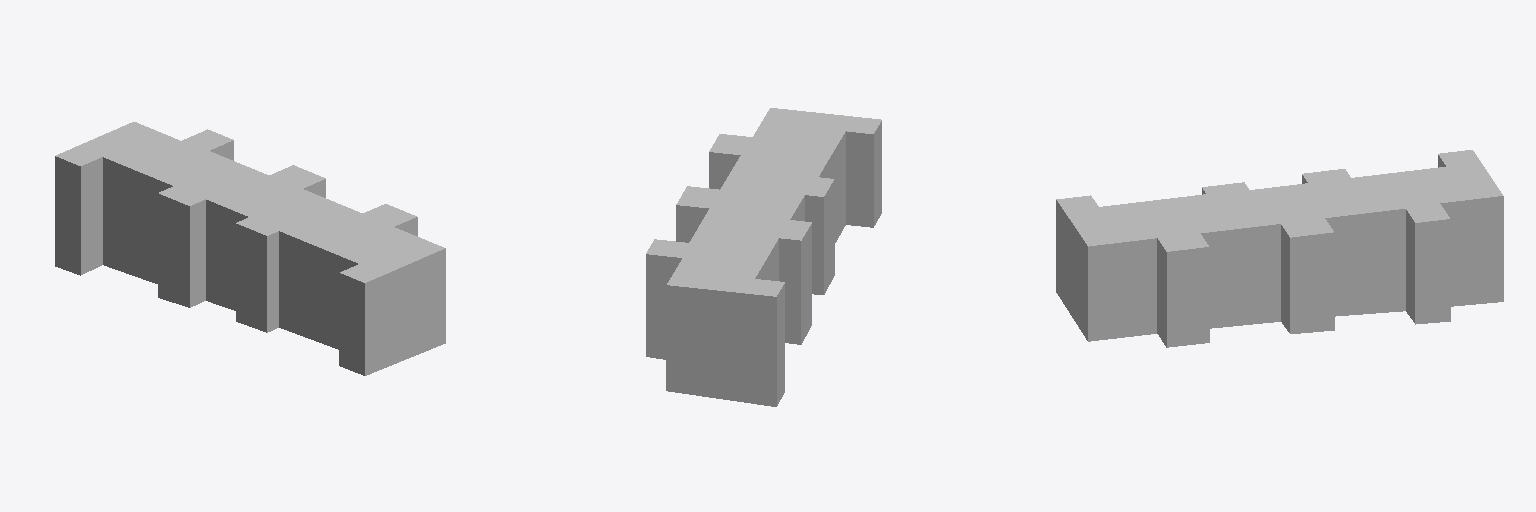
The model's file is ZHD1.obj.
The picture shows the model from 3 angles: view 1: azimuth 30°, elevation 25°; view 2: azimuth 150°, elevation 25°; view 3: azimuth 270°, elevation 25°; orthographic projection.
Visible parts, largest first — view 1: Areas:building.001; view 2: Areas:building.001; view 3: Areas:building.001.
Boxes of the visible parts, x1=… form: Areas:building.001: x1=55, y1=122, x2=445, y2=375; Areas:building.001: x1=646, y1=108, x2=881, y2=406; Areas:building.001: x1=1056, y1=150, x2=1503, y2=347.
Bounding box in the file's own units: 77.26 × 38.84 × 143.